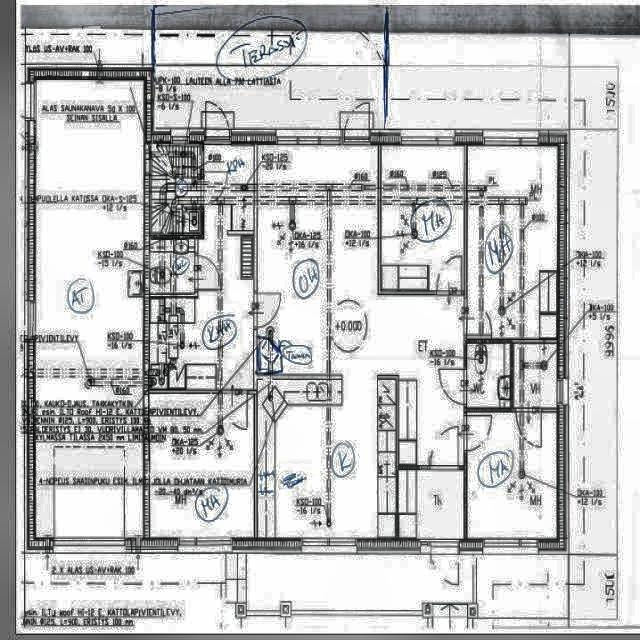room: (467, 146, 557, 339), (150, 394, 254, 537), (381, 146, 464, 290), (467, 413, 556, 538), (398, 470, 464, 539), (151, 144, 201, 233), (513, 344, 557, 408), (467, 344, 510, 407), (150, 240, 194, 293)
